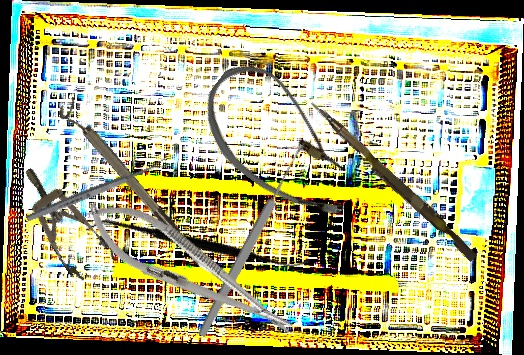Cannula: (182, 50, 383, 235)
Fixation Ring: (55, 96, 184, 245)
Needle Holder: (74, 185, 305, 354)
Pusher: (303, 99, 482, 263)
Spatula Surgical: (84, 158, 313, 333)
Speculum: (6, 154, 123, 287)
Surgical Spoon: (195, 142, 309, 339), (25, 157, 169, 224)
